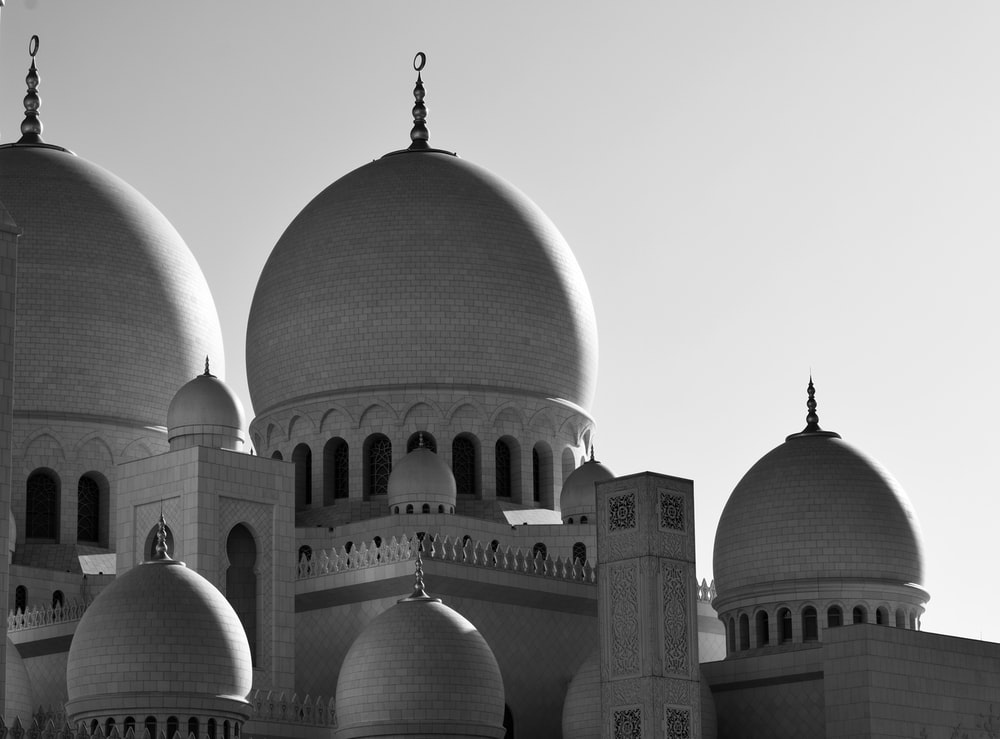Mosque: (18, 17, 938, 724)
